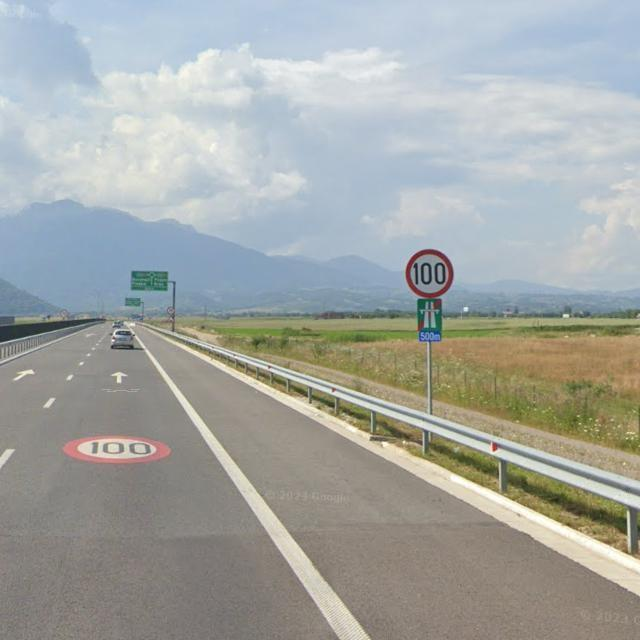forb_speed_over_100: (63, 434, 172, 466), (405, 246, 455, 299)
